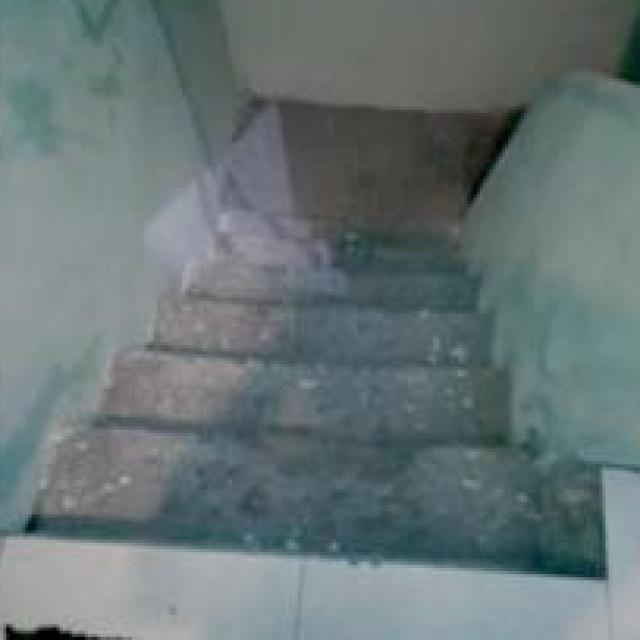downstair: (42, 346, 525, 610)
